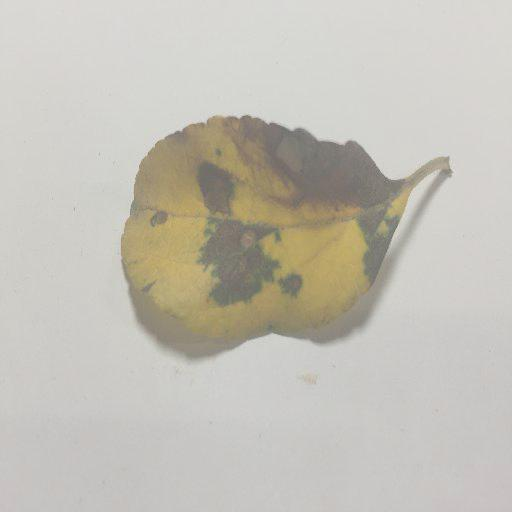Brown_Spot: (239, 125, 398, 201), (210, 222, 270, 301), (193, 163, 229, 212), (366, 219, 387, 277), (142, 207, 171, 234), (283, 279, 299, 299)
